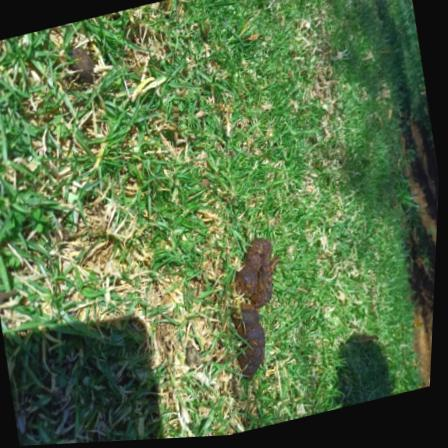dog-poop: (206, 231, 307, 384)
